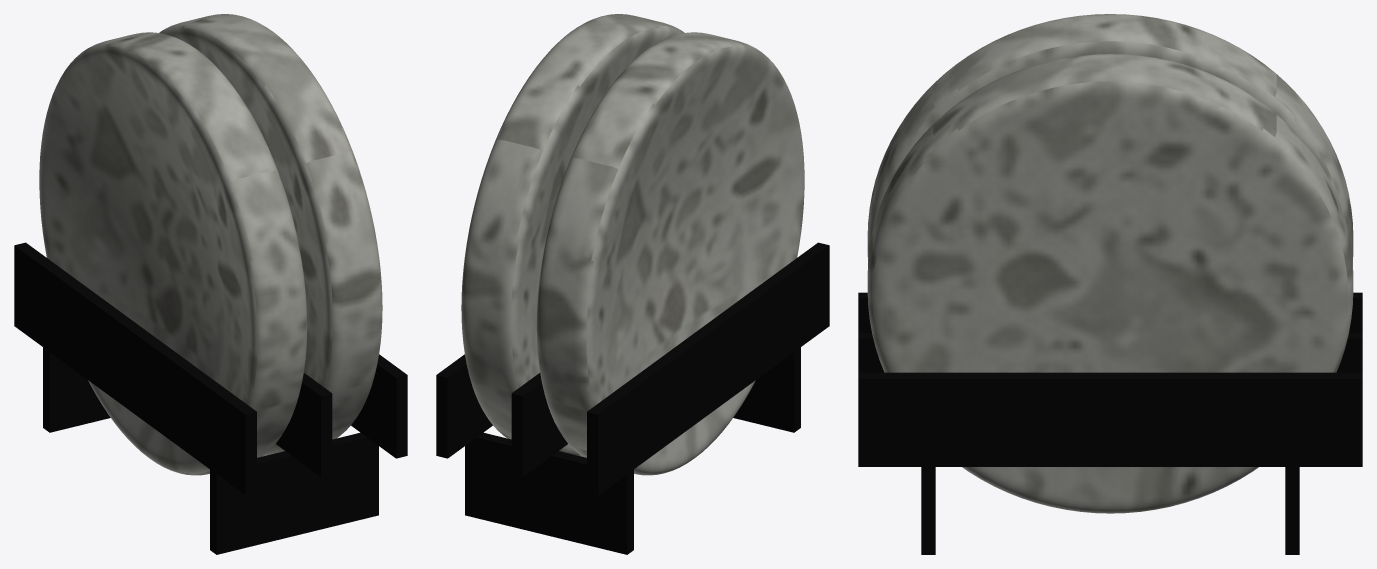
The model's file is posavasos-x2.glb.
3 views of the same model, side by side, from view 1: azimuth 30°, elevation 25°; view 2: azimuth 150°, elevation 25°; view 3: azimuth 270°, elevation 25° (orthographic). The views are drawn at different scales.
Visible parts, largest first — view 1: Terrazo - posavasosx2, Hierro - posavasosx2; view 2: Terrazo - posavasosx2, Hierro - posavasosx2; view 3: Terrazo - posavasosx2, Hierro - posavasosx2.
Part boxes in pixels (bbox=[...]): Terrazo - posavasosx2: bbox=[39, 14, 382, 475]; Hierro - posavasosx2: bbox=[14, 242, 407, 554]; Terrazo - posavasosx2: bbox=[461, 14, 804, 475]; Hierro - posavasosx2: bbox=[436, 242, 829, 554]; Terrazo - posavasosx2: bbox=[867, 14, 1353, 513]; Hierro - posavasosx2: bbox=[858, 292, 1362, 554].
Bounding box in the file's own units: 0.042 × 0.1063 × 0.1039.
2 materials, 1 textured.
